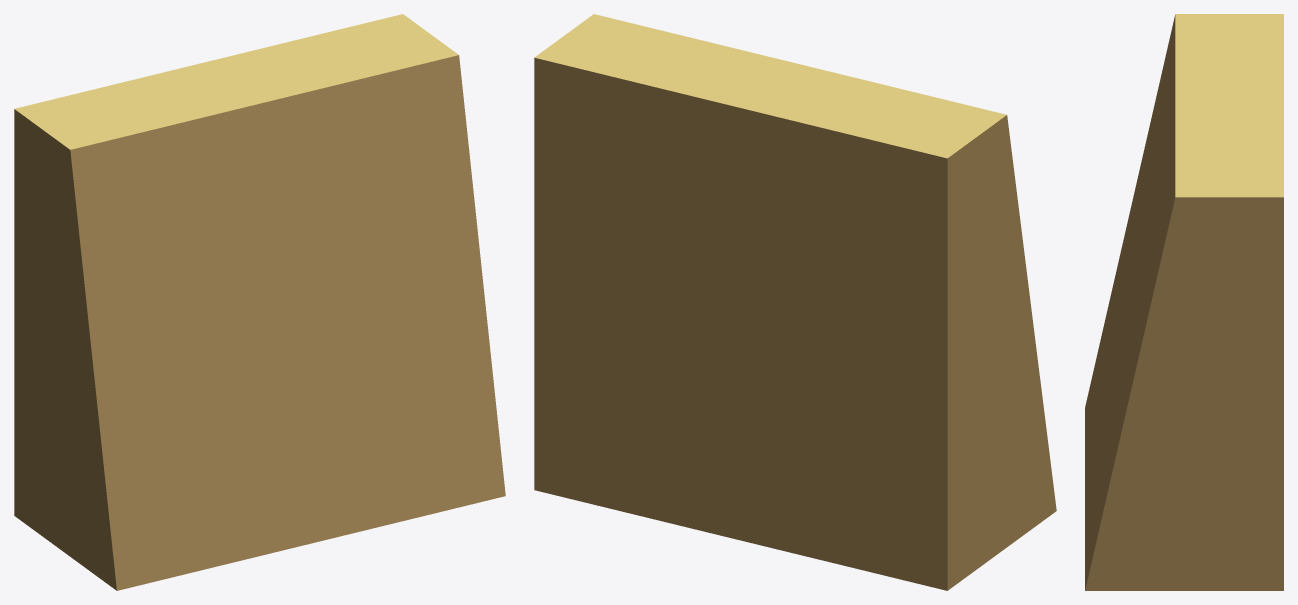
File: Terrain_Tile_Sand_Cliff_Face_Angled_02.fbx
3 views of the same model, side by side, from view 1: azimuth 30°, elevation 25°; view 2: azimuth 150°, elevation 25°; view 3: azimuth 270°, elevation 25° (orthographic). The views are drawn at different scales.
Visible parts, largest first — view 1: Terrain_Tile_Sand_Cliff_Face_Angled_02; view 2: Terrain_Tile_Sand_Cliff_Face_Angled_02; view 3: Terrain_Tile_Sand_Cliff_Face_Angled_02.
Part boxes in pixels (x1,y1,x2,y2): Terrain_Tile_Sand_Cliff_Face_Angled_02: [14, 14, 505, 590]; Terrain_Tile_Sand_Cliff_Face_Angled_02: [534, 14, 1056, 590]; Terrain_Tile_Sand_Cliff_Face_Angled_02: [1085, 14, 1283, 590].
Bounding box in the file's own units: 126 × 126 × 57.68.
